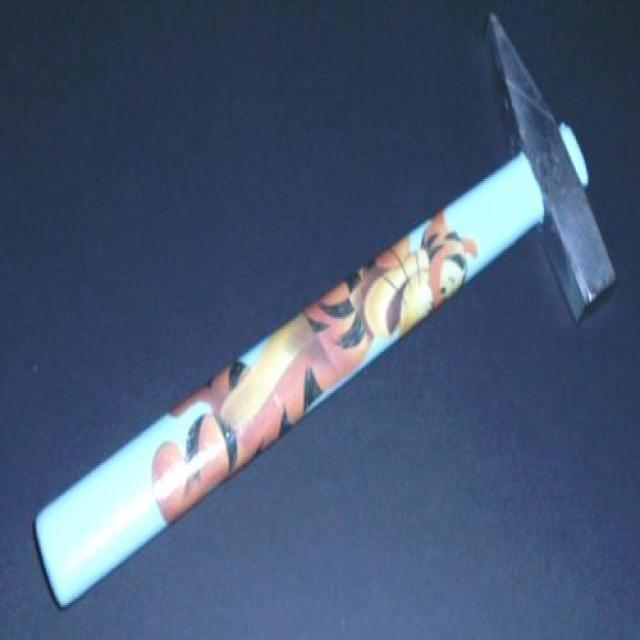hammer: (20, 1, 632, 626)
